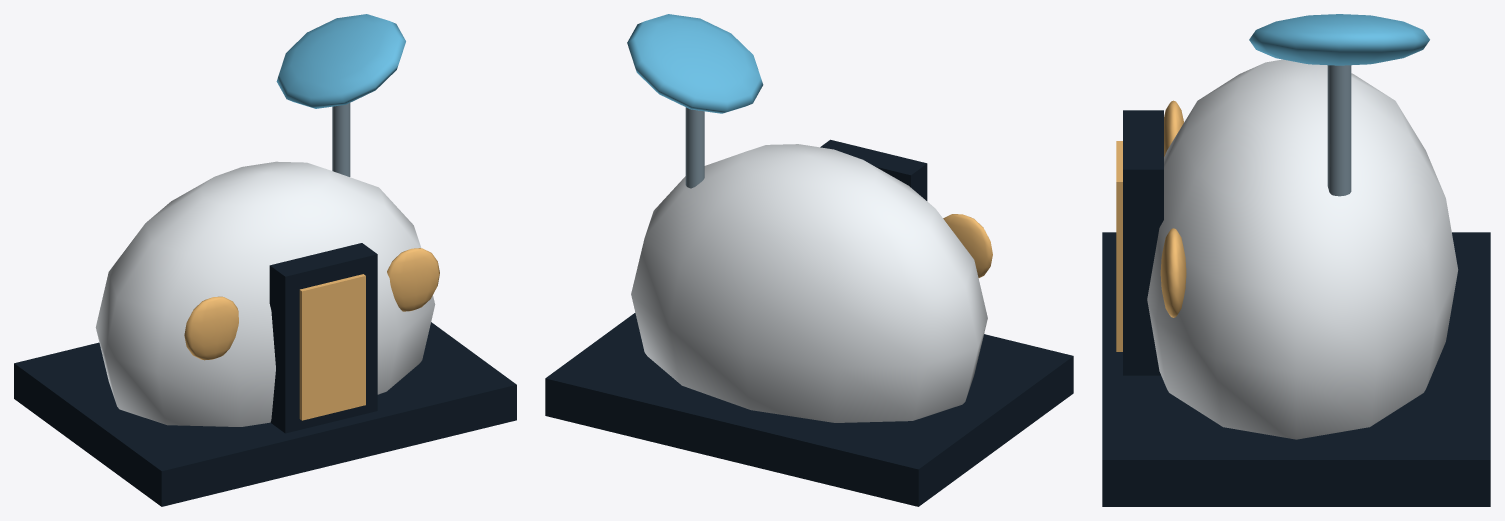
Rendered from station-lab.glb.
3 views of the same model, side by side, from view 1: azimuth 30°, elevation 25°; view 2: azimuth 150°, elevation 25°; view 3: azimuth 270°, elevation 25° (orthographic). The views are drawn at different scales.
Visible parts, largest first — view 1: habitat-shell, foundation, door-rim, warm-door, dish, window (×2), dish-mast; view 2: habitat-shell, foundation, dish, door-rim, window, dish-mast; view 3: habitat-shell, foundation, door-rim, dish, dish-mast, window (×2), warm-door.
Boxes of the visible parts, left/top/right/bottom form: habitat-shell: left=95, top=161, right=435, bottom=426; foundation: left=14, top=322, right=516, bottom=506; door-rim: left=269, top=243, right=377, bottom=433; warm-door: left=299, top=274, right=365, bottom=420; dish: left=276, top=14, right=405, bottom=108; window (×2): left=184, top=248, right=439, bottom=360; dish-mast: left=332, top=103, right=350, bottom=176; habitat-shell: left=631, top=144, right=987, bottom=422; foundation: left=545, top=313, right=1073, bottom=506; dish: left=627, top=14, right=763, bottom=113; door-rim: left=820, top=139, right=927, bottom=200; window: left=943, top=214, right=992, bottom=277; dish-mast: left=685, top=107, right=704, bottom=188; habitat-shell: left=1147, top=59, right=1458, bottom=439; foundation: left=1102, top=232, right=1490, bottom=506; door-rim: left=1123, top=110, right=1163, bottom=375; dish: left=1249, top=14, right=1429, bottom=65; dish-mast: left=1327, top=65, right=1351, bottom=196; window (×2): left=1160, top=100, right=1186, bottom=317; warm-door: left=1116, top=141, right=1122, bottom=351.
Bounding box in the file's own units: 2.5 × 2.63 × 1.8.
